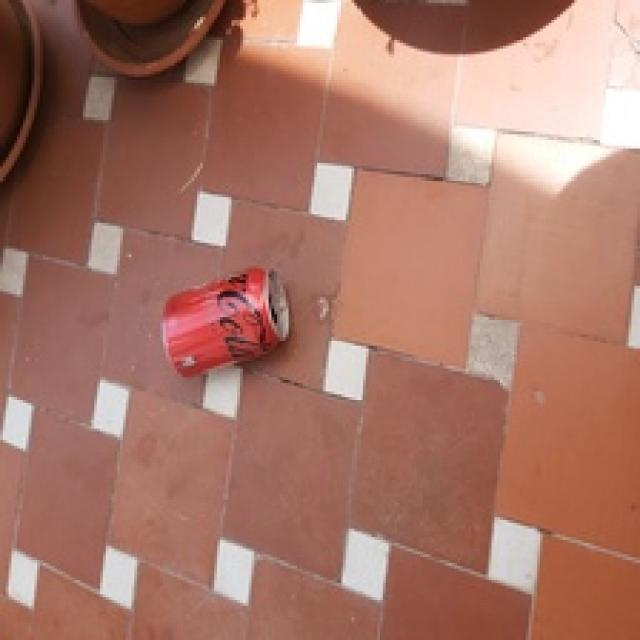recyclable: (162, 263, 290, 375)
